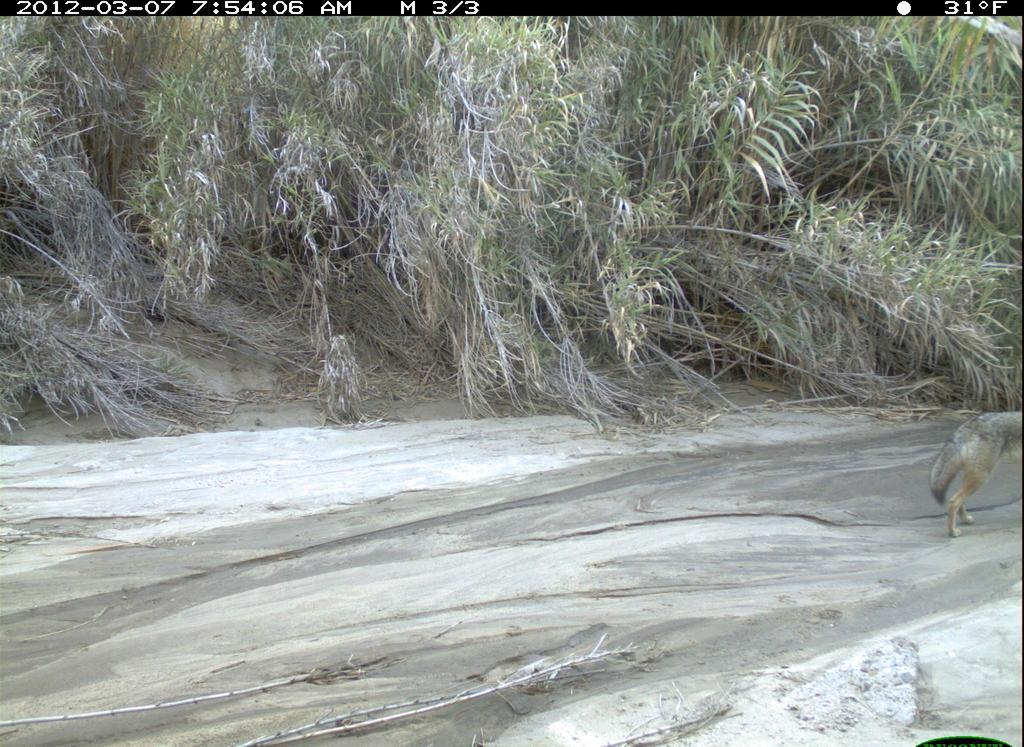coyote: (922, 391, 1024, 550)
